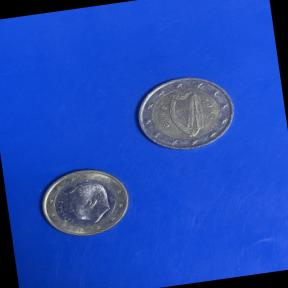1 Euro-B: (32, 161, 136, 248)
2 Euro-B: (124, 66, 246, 161)
